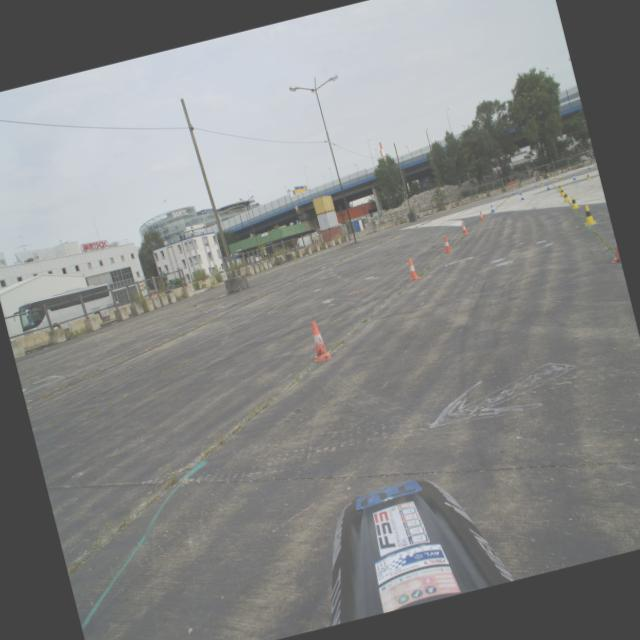blue_cone: (488, 204, 494, 212), (518, 192, 524, 200), (545, 182, 550, 190), (571, 173, 576, 180), (518, 189, 522, 194), (586, 164, 590, 169), (510, 190, 514, 194), (534, 182, 536, 186)
orange_cone: (304, 318, 332, 362), (604, 233, 620, 264), (403, 256, 422, 282), (439, 234, 454, 253), (459, 220, 469, 236), (477, 210, 485, 222)
yellow_cone: (580, 203, 596, 225), (567, 193, 581, 210), (560, 189, 570, 202), (558, 186, 564, 196), (584, 172, 591, 180), (556, 183, 562, 191), (540, 180, 544, 187), (558, 176, 562, 182), (552, 176, 556, 181), (593, 163, 597, 168)
